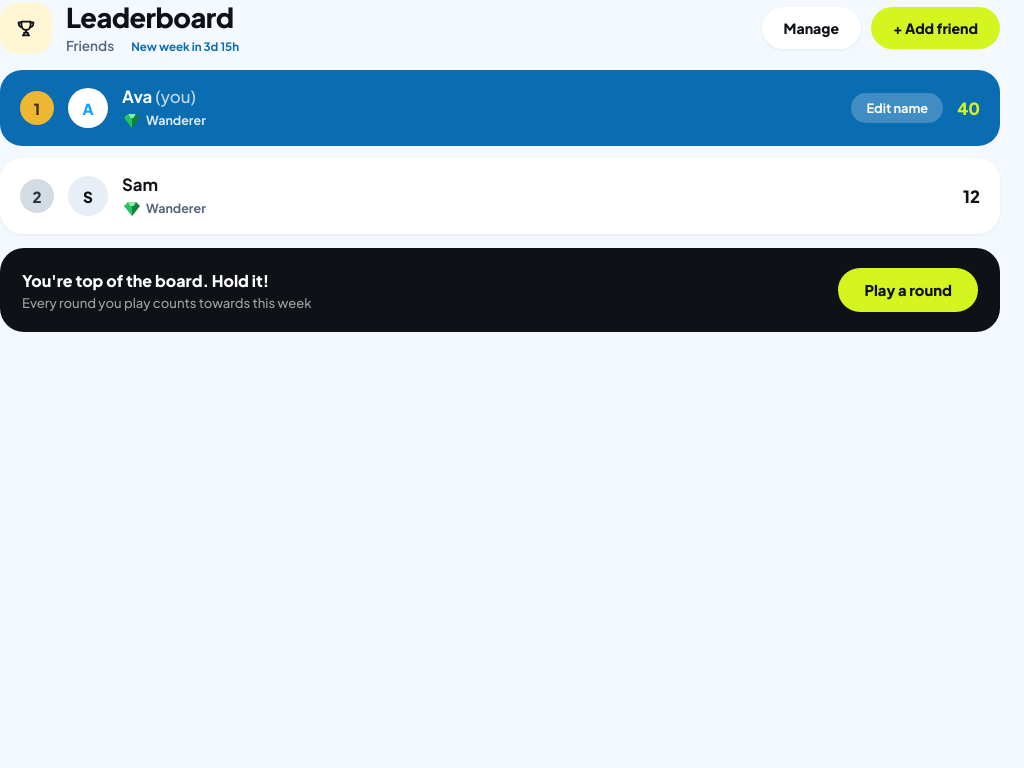
Test case: LeaderboardScreen › shows the code to type out when the clipboard is unavailable
The width and height of the screenshot is (1024, 768).
Click the button with class "board-addbtn": click(936, 28) [871,7,1000,49]
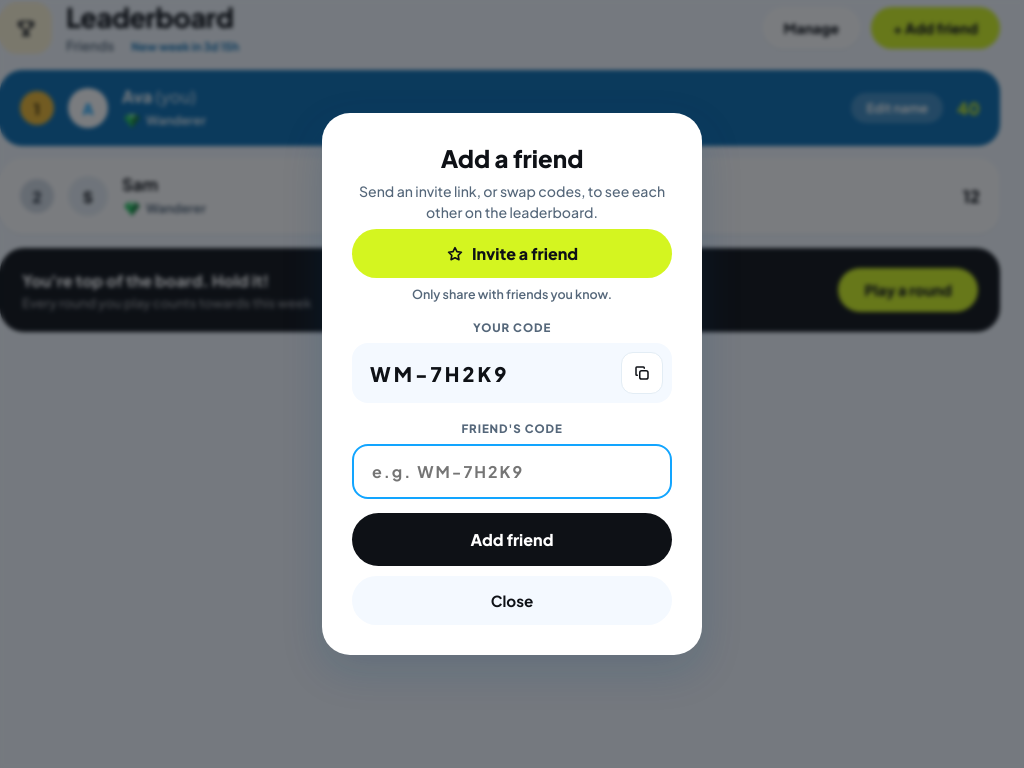
Click the button with class "board-copybtn": click(642, 373) [621,352,663,394]
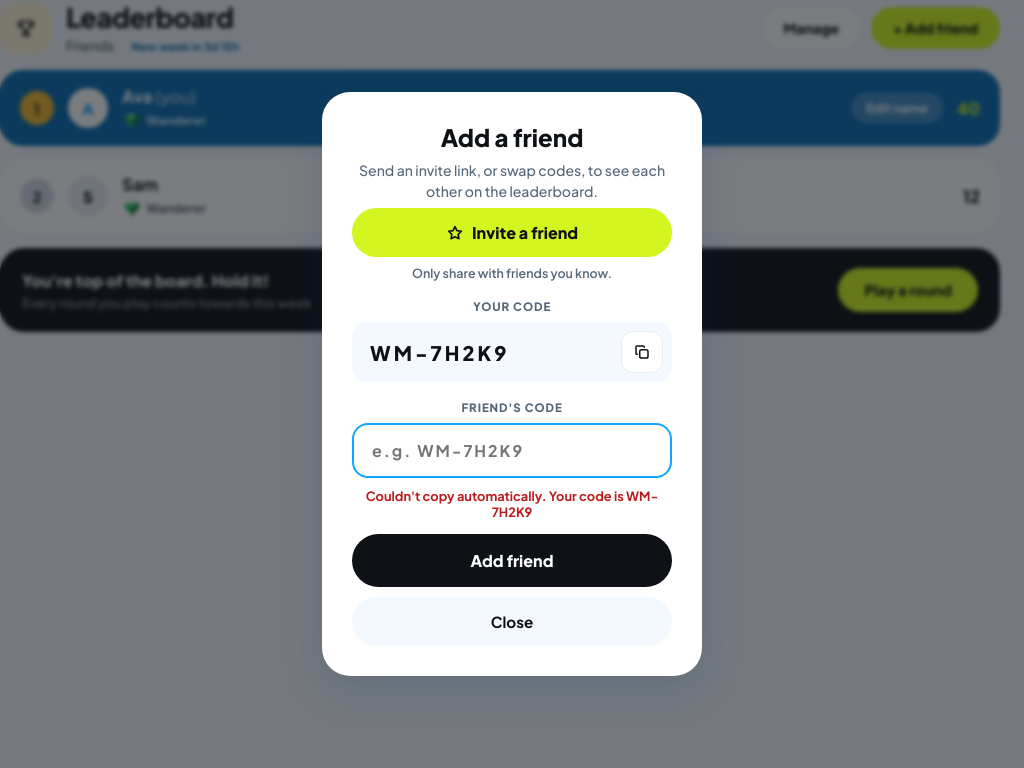
Expected: the text with class "err" shows "WM-7H2K9", [366,488,658,520]
